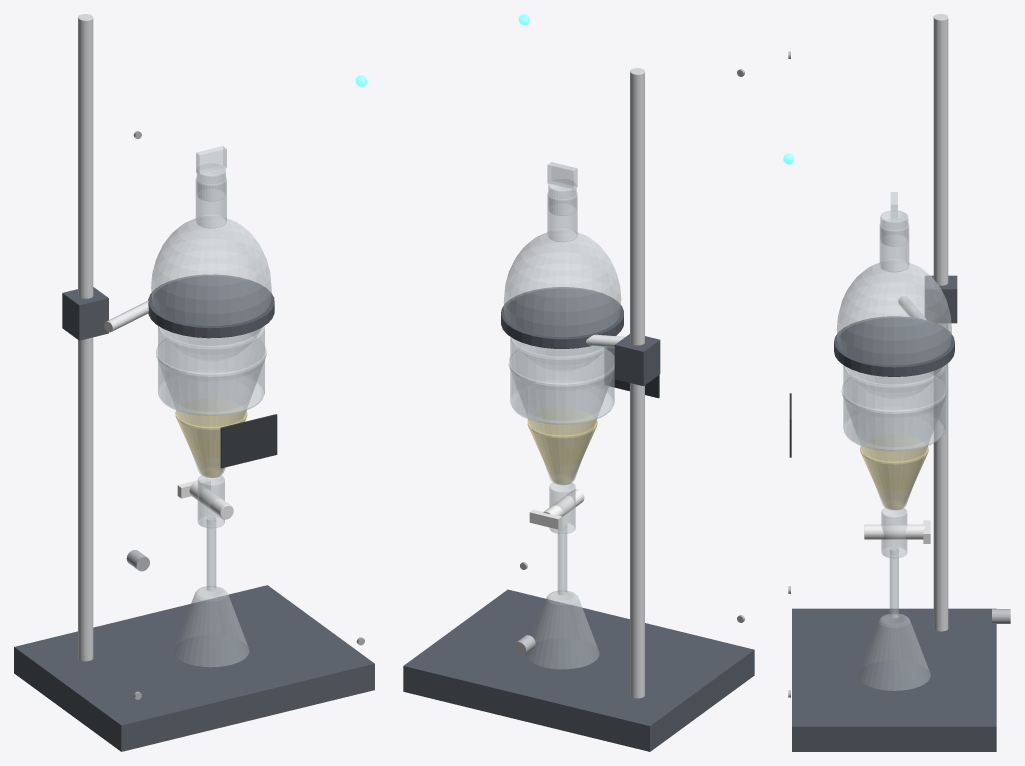
Rendered from SM_SeparatoryFunnel_500ml.glb.
The picture shows the model from 3 angles, left to right: view 1: azimuth 30°, elevation 25°; view 2: azimuth 150°, elevation 25°; view 3: azimuth 270°, elevation 25°; orthographic projection. The views are drawn at different scales.
Parts seen in each view (by area): view 1: SepFunnel_StandBase, SepFunnel_GlassBulb, SepFunnel_SupportRod, SepFunnel_AqueousLayer, SepFunnel_GlassCone, SepFunnel_SupportRing, SepFunnel_ReceivingFlask, Detail_RatingPlate, SepFunnel_OrganicLayer, SepFunnel_Bosshead, SepFunnel_Neck, SepFunnel_StopcockBarrel (+5 smaller); view 2: SepFunnel_StandBase, SepFunnel_GlassBulb, SepFunnel_SupportRod, SepFunnel_GlassCone, SepFunnel_AqueousLayer, SepFunnel_SupportRing, SepFunnel_ReceivingFlask, SepFunnel_OrganicLayer, SepFunnel_Bosshead, SepFunnel_Neck, SepFunnel_StopcockBarrel, SepFunnel_StopperPlug (+3 smaller); view 3: SepFunnel_StandBase, SepFunnel_GlassBulb, SepFunnel_SupportRod, SepFunnel_AqueousLayer, SepFunnel_GlassCone, SepFunnel_SupportRing, SepFunnel_ReceivingFlask, SepFunnel_OrganicLayer, SepFunnel_Neck, SepFunnel_Bosshead, SepFunnel_StopcockBarrel, SepFunnel_PTFEPlug (+2 smaller).
Part boxes in pixels (<box>): SepFunnel_StandBase: <box>14,585,374,751</box>; SepFunnel_GlassBulb: <box>151,216,271,361</box>; SepFunnel_SupportRod: <box>78,14,93,661</box>; SepFunnel_AqueousLayer: <box>158,326,264,415</box>; SepFunnel_GlassCone: <box>156,338,266,477</box>; SepFunnel_SupportRing: <box>148,274,274,338</box>; SepFunnel_ReceivingFlask: <box>173,586,248,666</box>; Detail_RatingPlate: <box>220,414,277,468</box>; SepFunnel_OrganicLayer: <box>175,410,247,477</box>; SepFunnel_Bosshead: <box>62,287,108,340</box>; SepFunnel_Neck: <box>195,172,226,228</box>; SepFunnel_StopcockBarrel: <box>197,475,224,528</box>; SepFunnel_StandBase: <box>403,589,754,751</box>; SepFunnel_GlassBulb: <box>503,230,621,371</box>; SepFunnel_SupportRod: <box>630,68,644,698</box>; SepFunnel_GlassCone: <box>508,349,614,485</box>; SepFunnel_AqueousLayer: <box>510,337,614,424</box>; SepFunnel_SupportRing: <box>501,287,623,348</box>; SepFunnel_ReceivingFlask: <box>526,590,599,668</box>; SepFunnel_OrganicLayer: <box>527,419,597,484</box>; SepFunnel_Bosshead: <box>614,334,660,386</box>; SepFunnel_Neck: <box>547,187,577,242</box>; SepFunnel_StopcockBarrel: <box>549,482,575,533</box>; SepFunnel_StopperPlug: <box>548,179,576,215</box>; SepFunnel_StandBase: <box>792,608,996,751</box>; SepFunnel_GlassBulb: <box>836,260,951,398</box>; SepFunnel_SupportRod: <box>933,14,948,631</box>; SepFunnel_AqueousLayer: <box>843,365,945,451</box>; SepFunnel_GlassCone: <box>841,377,947,510</box>; SepFunnel_SupportRing: <box>834,316,954,376</box>; SepFunnel_ReceivingFlask: <box>858,613,930,690</box>; SepFunnel_OrganicLayer: <box>860,446,928,509</box>; SepFunnel_Neck: <box>879,219,909,272</box>; SepFunnel_Bosshead: <box>925,275,957,323</box>; SepFunnel_StopcockBarrel: <box>881,508,907,558</box>; SepFunnel_PTFEPlug: <box>864,524,924,539</box>.
Size of the model in its own units: 0.3 by 0.755 by 0.2445.
